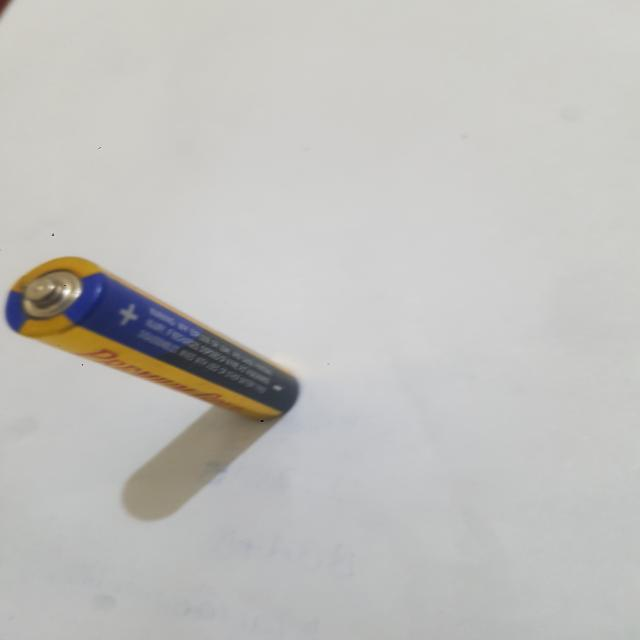electronic: (2, 236, 348, 485)
